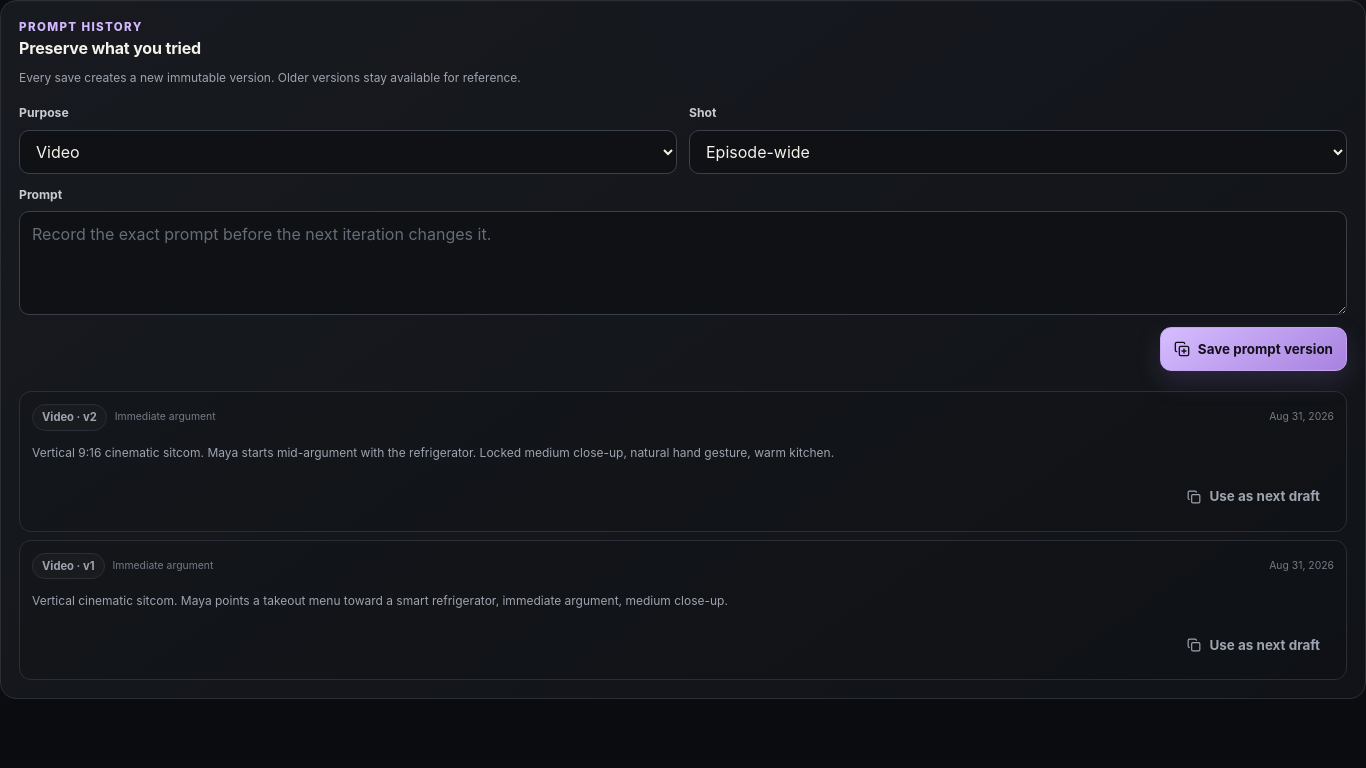
Test: PromptHistoryPanel › copies an old version into a new draft without mutation controls
This screenshot has width=1366, height=768.
Click the 1st button "Use as next draft": x=1254, y=496 [1174, 474, 1334, 518]
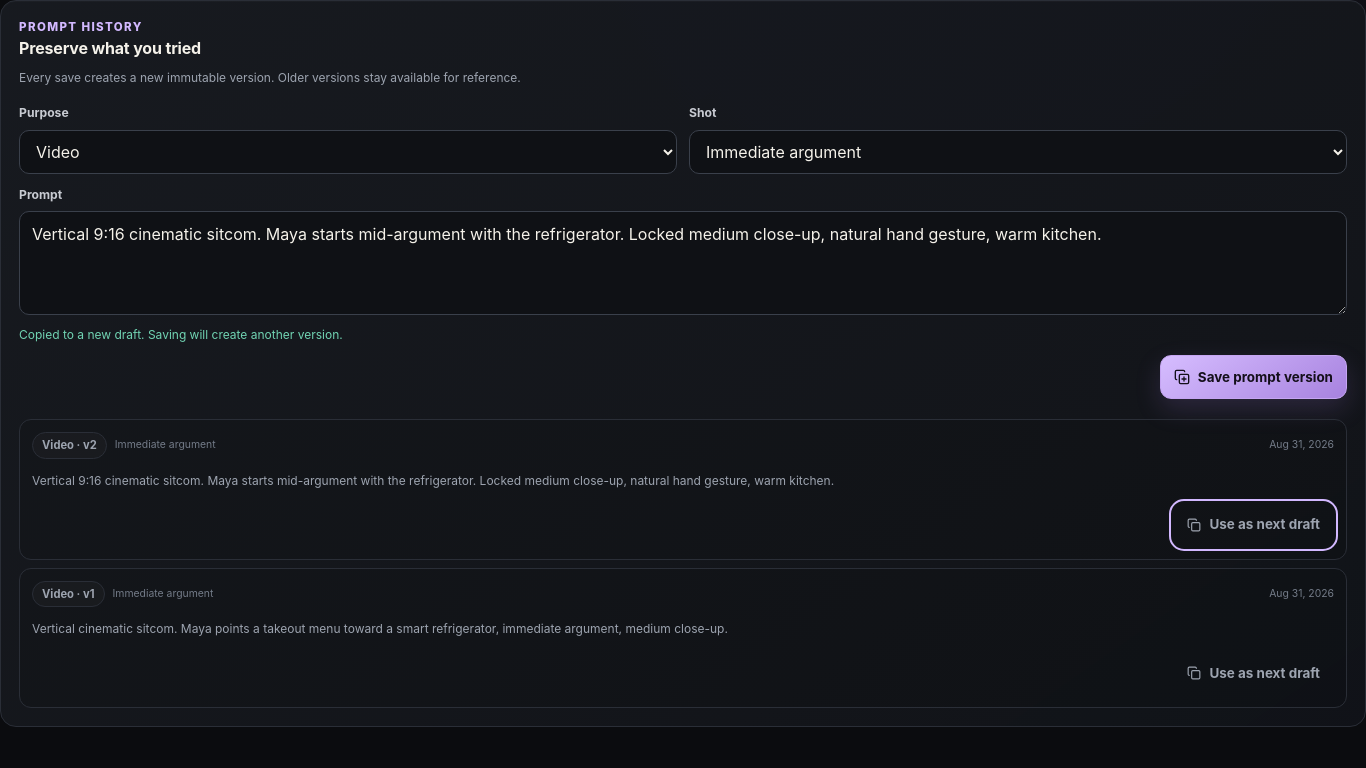
Expected: the text box labelled "Prompt" holds "Vertical 9:16 cinematic sitcom. Maya starts mid-argument with the refrigerator. Locked medium close-up, natural hand gesture, warm kitchen.", [19, 211, 1347, 315]
Expected: the message shows "Saving will create another version.", [19, 327, 343, 342]
